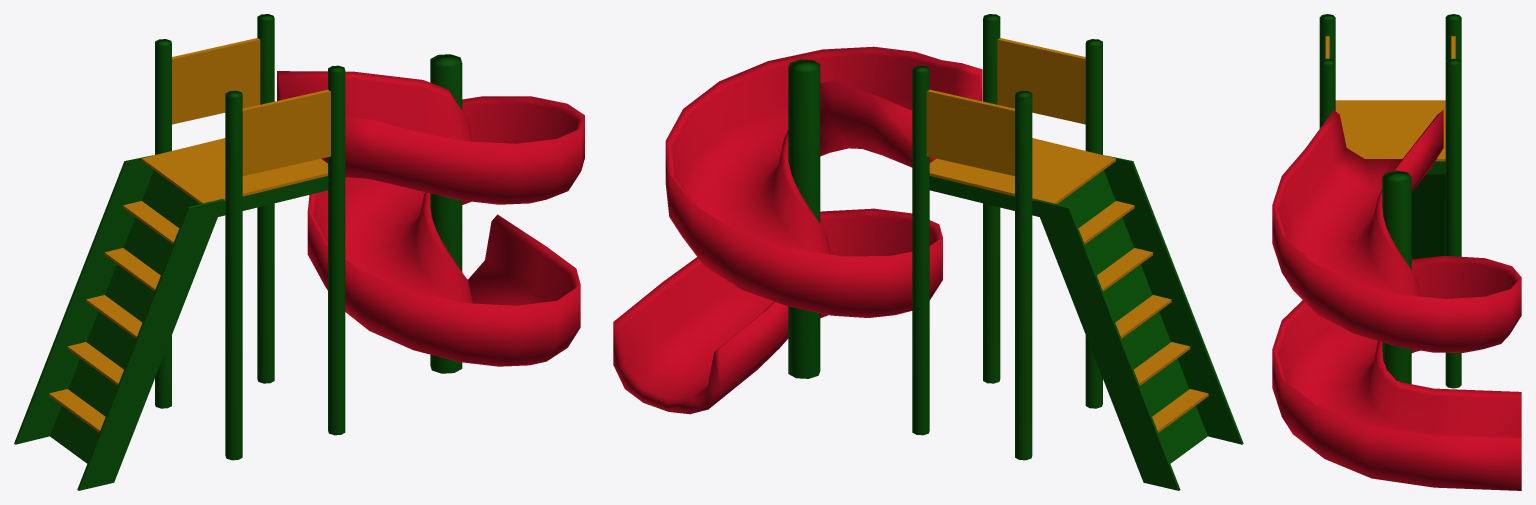
File: slide_3.fbx
3 renders of one model, left to right at view 1: azimuth 30°, elevation 25°; view 2: azimuth 150°, elevation 25°; view 3: azimuth 270°, elevation 25°, orthographic. The views are drawn at different scales.
Parts seen in each view (by area): view 1: Slide, Stairs_Support.001, SupportBeam3, SupportBeam4, stairs.001, Wall2, Wall1, SlideTop.001, SupportBeam2, SlideSupport, SupportBeam1; view 2: Slide, Stairs_Support.001, SlideSupport, SupportBeam1, SupportBeam2, stairs.001, Wall1, Wall2, SlideTop.001, SupportBeam4, SupportBeam3; view 3: Slide, SlideTop.001, SupportBeam2, SlideSupport, Stairs_Support.001, SupportBeam4, stairs.001, SupportBeam3, SupportBeam1.
Boxes of the visible parts, left/top/right/bottom form: Slide: left=277, top=71, right=584, bottom=366; Stairs_Support.001: left=14, top=154, right=224, bottom=490; SupportBeam3: left=225, top=90, right=242, bottom=460; SupportBeam4: left=328, top=65, right=345, bottom=435; stairs.001: left=49, top=154, right=221, bottom=432; Wall2: left=242, top=89, right=330, bottom=175; Wall1: left=172, top=38, right=260, bottom=124; SlideTop.001: left=160, top=138, right=327, bottom=216; SupportBeam2: left=257, top=14, right=274, bottom=383; SlideSupport: left=430, top=54, right=462, bottom=373; SupportBeam1: left=155, top=39, right=171, bottom=408; Slide: left=613, top=46, right=982, bottom=414; Stairs_Support.001: left=1033, top=155, right=1243, bottom=490; SlideSupport: left=788, top=59, right=820, bottom=378; SupportBeam1: left=1015, top=90, right=1032, bottom=460; SupportBeam2: left=912, top=65, right=929, bottom=435; stairs.001: left=1036, top=154, right=1208, bottom=432; Wall1: left=926, top=89, right=1014, bottom=175; Wall2: left=997, top=38, right=1085, bottom=124; SlideTop.001: left=929, top=138, right=1097, bottom=216; SupportBeam4: left=983, top=14, right=1000, bottom=383; SupportBeam3: left=1085, top=39, right=1102, bottom=408; Slide: left=1272, top=110, right=1521, bottom=490; SlideTop.001: left=1335, top=108, right=1445, bottom=174; SupportBeam2: left=1445, top=58, right=1461, bottom=388; SlideSupport: left=1382, top=170, right=1411, bottom=383; Stairs_Support.001: left=1411, top=174, right=1445, bottom=259; SupportBeam4: left=1319, top=58, right=1335, bottom=128; stairs.001: left=1335, top=100, right=1445, bottom=108; SupportBeam3: left=1319, top=14, right=1335, bottom=61; SupportBeam1: left=1445, top=14, right=1461, bottom=61.
Size of the model in its own units: 4 by 2.67 by 1.85.
